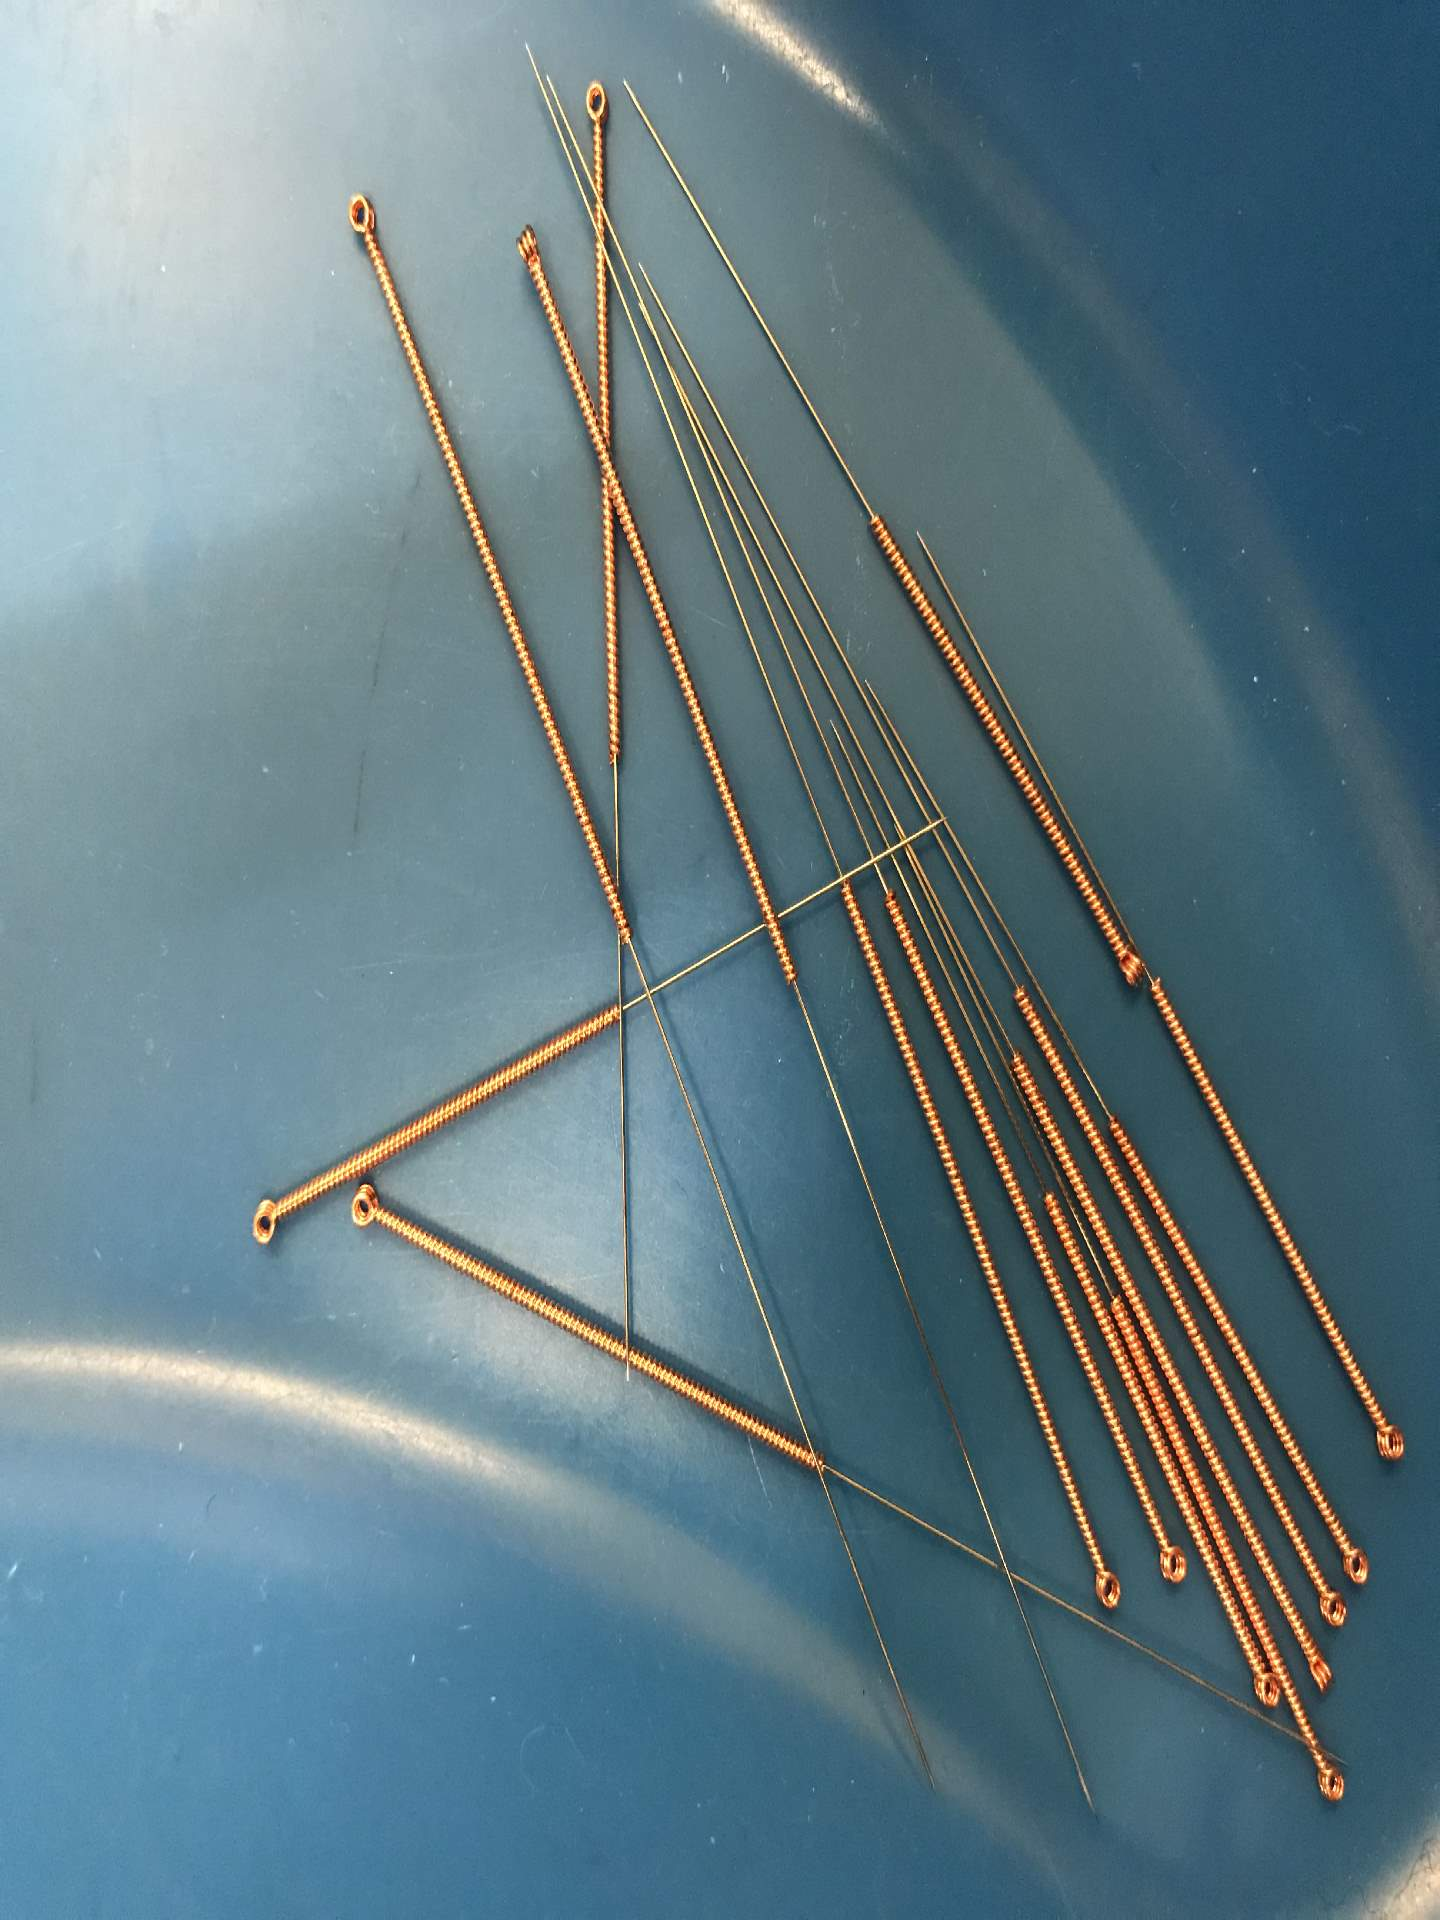needle: (1358, 1389, 1416, 1477), (1071, 1548, 1137, 1624), (234, 1185, 296, 1256), (334, 181, 389, 259), (504, 215, 557, 286), (340, 1175, 398, 1238), (572, 70, 622, 141), (1139, 1528, 1190, 1596), (1101, 924, 1151, 990), (1304, 1748, 1352, 1814), (1333, 1521, 1379, 1589), (1302, 1568, 1349, 1633), (1245, 1658, 1284, 1714), (1296, 1643, 1337, 1695)
